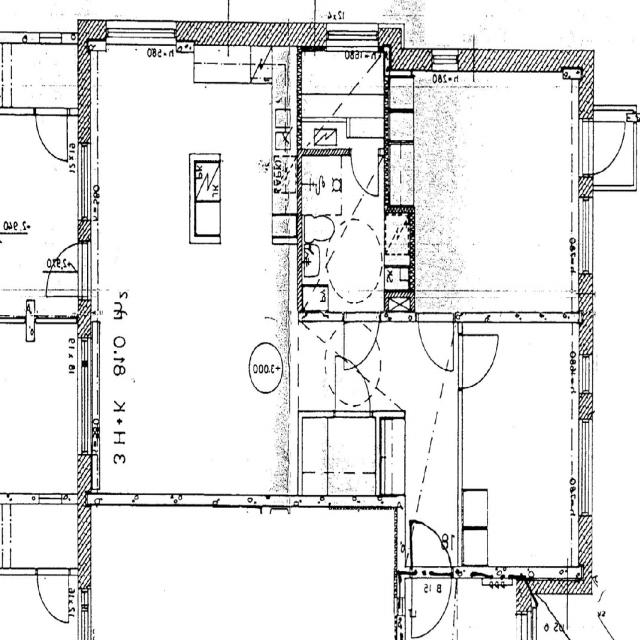door: (412, 566, 452, 637), (412, 507, 452, 577), (42, 242, 91, 296), (578, 122, 626, 172), (418, 312, 454, 375), (344, 312, 380, 375), (458, 335, 498, 388), (335, 357, 370, 417), (36, 108, 68, 162), (352, 148, 378, 197)
